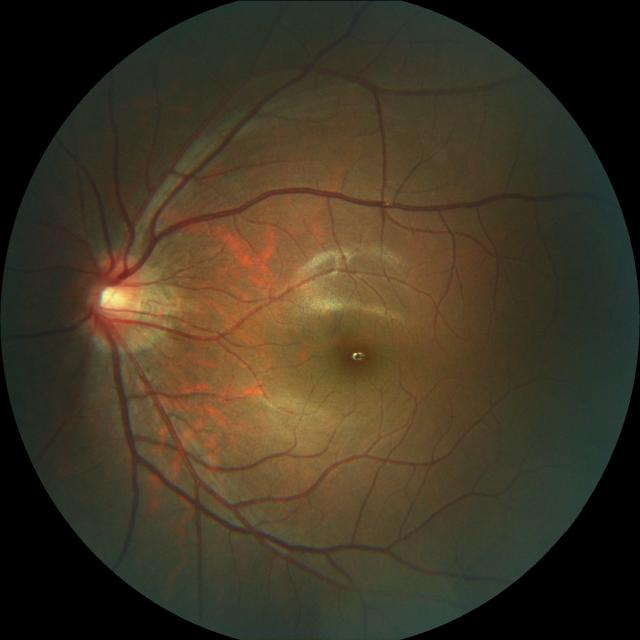OC: (99, 284, 129, 313)
OD: (84, 248, 142, 348)
